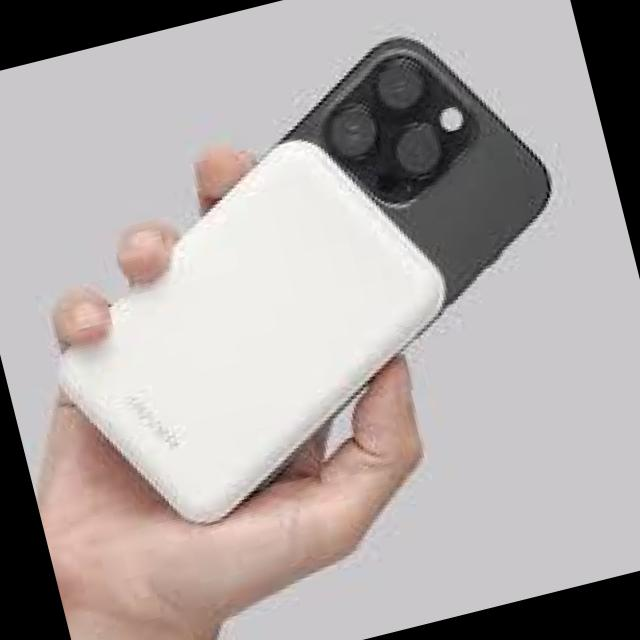power_bank: (15, 108, 491, 555)
